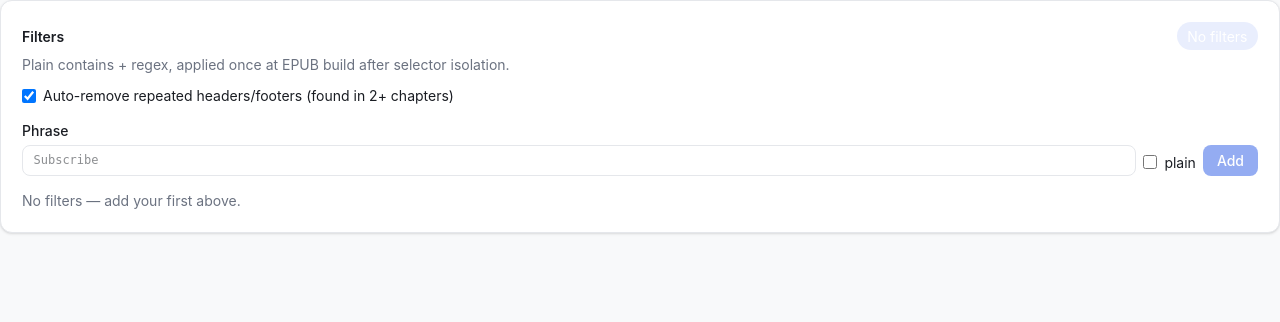
Test: Filters 2.3 — plain+regex gate › add regex filter validates and shows badge
Type "subscribe.*patreon" into the field with test id "filter-input" at (579, 160), box x1=22 y1=144 x2=1136 y2=176
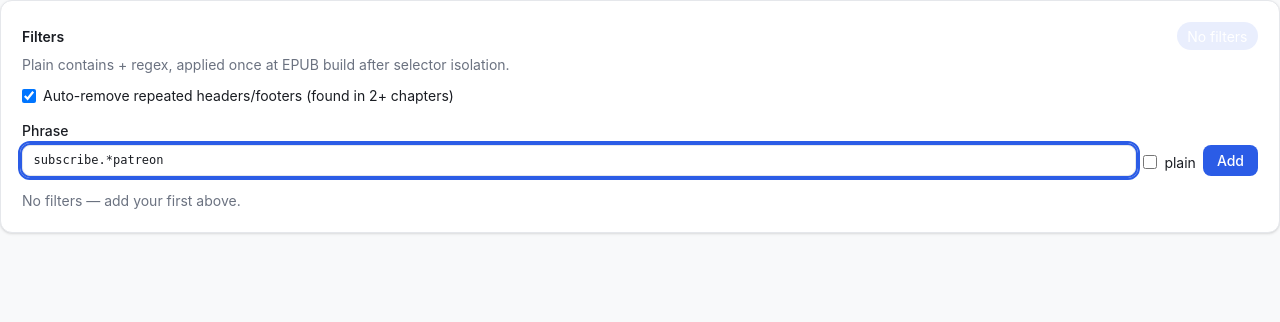
Click the checkbox with test id "filter-regex-toggle" at (1150, 162), box x1=1143 y1=155 x2=1157 y2=169
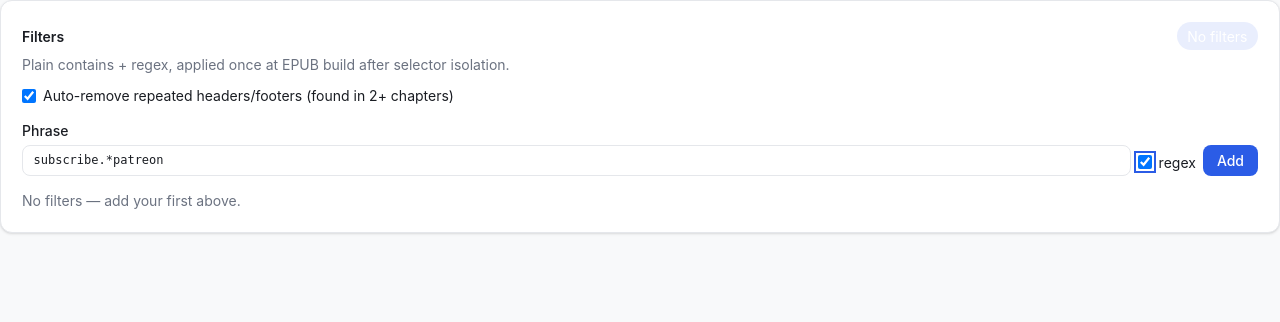
Click the button with test id "filter-add" at (1230, 160), box x1=1203 y1=144 x2=1258 y2=176
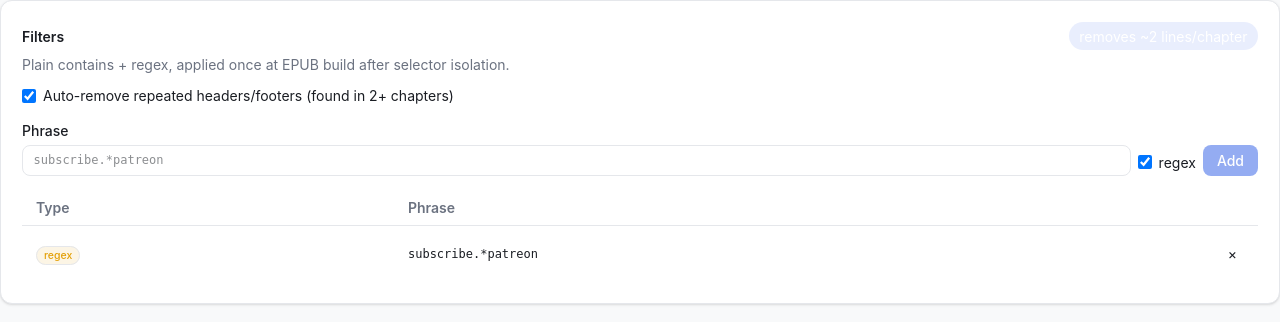
Expected: the text with test id "filter-type-0" reads "regex", x1=44 y1=249 x2=72 y2=262
